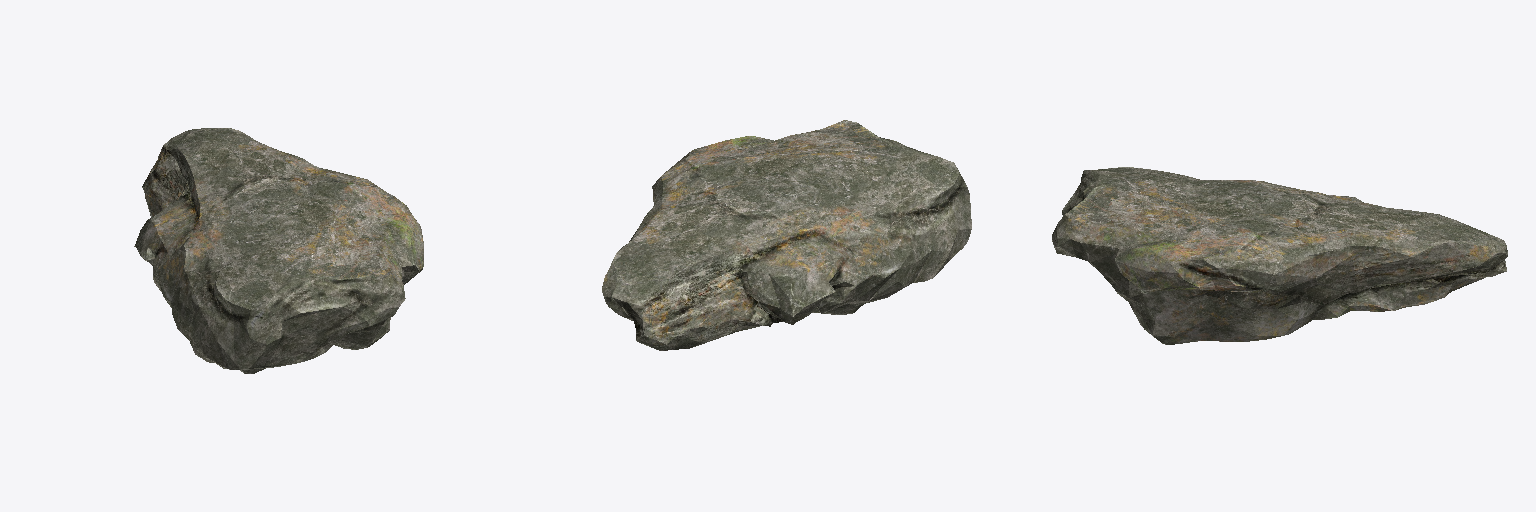
3 views of the same model, side by side, from view 1: azimuth 30°, elevation 25°; view 2: azimuth 150°, elevation 25°; view 3: azimuth 270°, elevation 25° (orthographic).
Size of the model in its own units: 110 by 55.04 by 184.
1 materials, 1 textured.